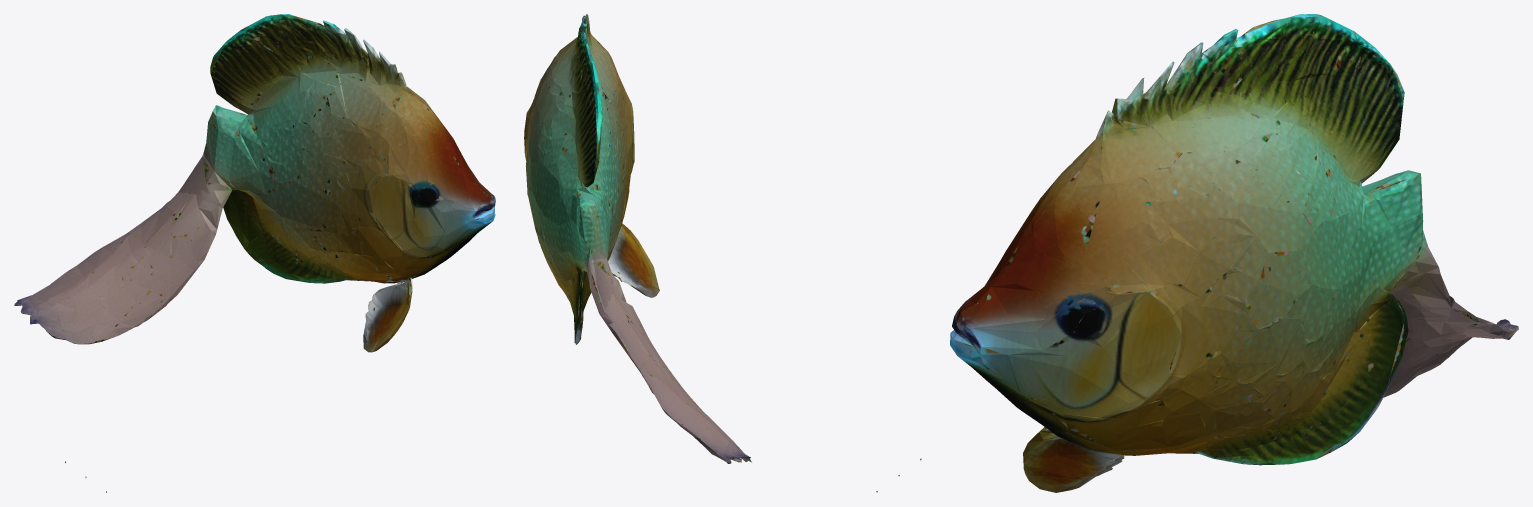
File: fish_0020_smpl23_resized.glb
3 views of the same model, side by side, from view 1: azimuth 30°, elevation 25°; view 2: azimuth 150°, elevation 25°; view 3: azimuth 270°, elevation 25° (orthographic). The views are drawn at different scales.
Visible parts, largest first — view 1: world; view 2: world; view 3: world.
Part boxes in pixels (x1,y1,x2,y2): world: (14,14,495,492); world: (524,14,921,492); world: (950,14,1518,492).
Bounding box in the file's own units: 1.97 × 1.97 × 1.66.
1 material, 1 textured.
